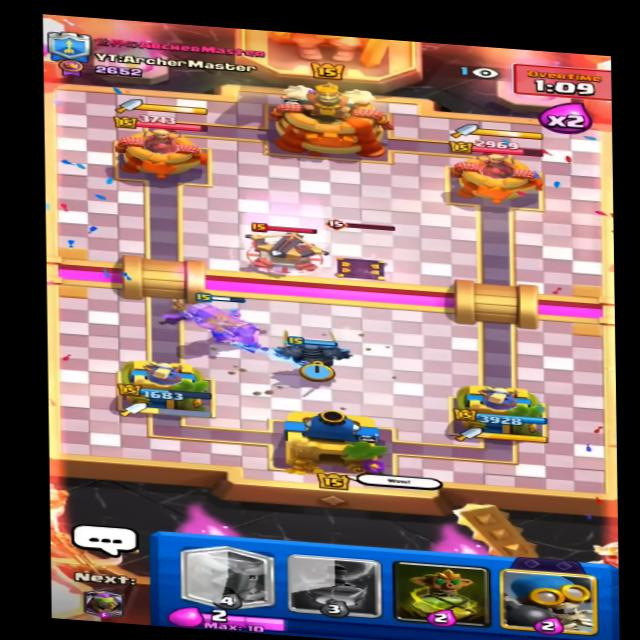evo-tesla-closed: (316, 219, 403, 286)
x-bow: (236, 220, 327, 278)
